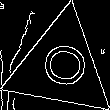O_W: (33, 41, 88, 93)
